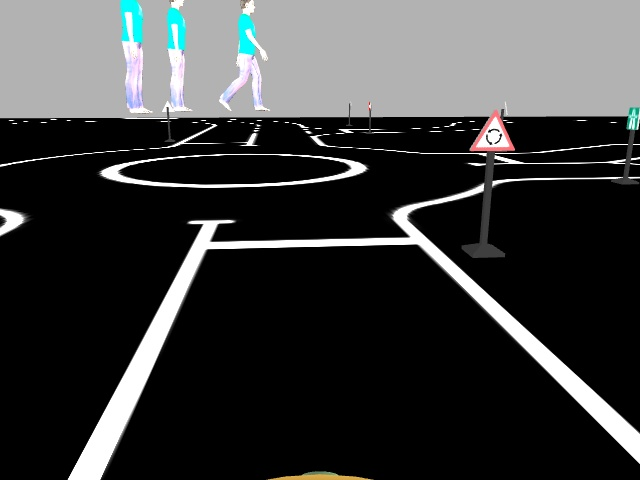Roundabout: (466, 109, 517, 155)
